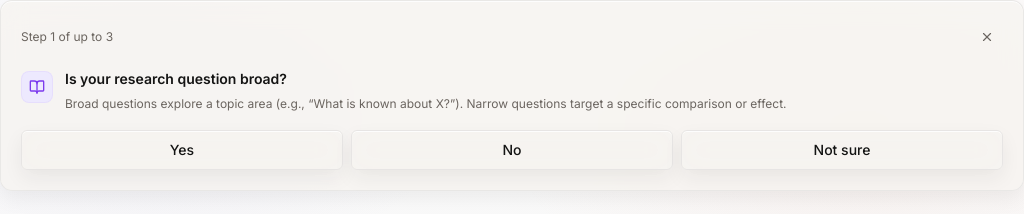
Test: ReviewTypeDecisionStage navigation › shows a step counter and goes back to the previous question
This screenshot has width=1024, height=214.
Expected: the text "Step 1 of up to 3" is shown, top-left (21, 29), bottom-right (113, 45)
Expected: the button "Back" is not shown
Click the button "No" at point(512, 150), box top-left (351, 130), bottom-right (673, 170)
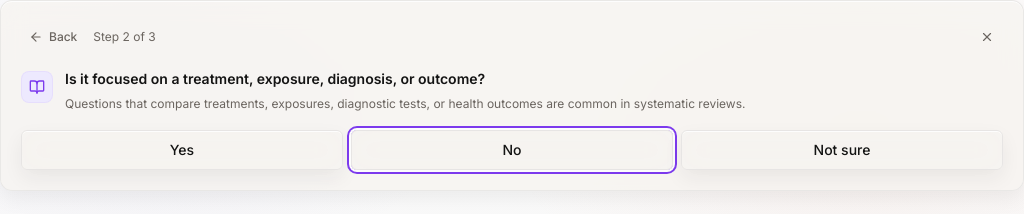
Result: the text "Step 2 of 3" is shown at top-left (93, 29), bottom-right (156, 45)
Result: the heading "Is it focused on a treatment, exposure, diagnosis, or outcome?" is shown at top-left (65, 70), bottom-right (485, 87)
Click the button "Yes" at point(182, 150), box top-left (21, 130), bottom-right (343, 170)
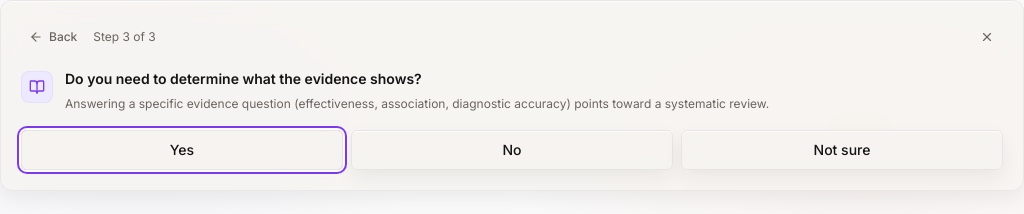
Result: the text "Step 3 of 3" is shown at top-left (93, 29), bottom-right (156, 45)
Click the button "Back" at point(53, 37), box top-left (21, 23), bottom-right (85, 51)
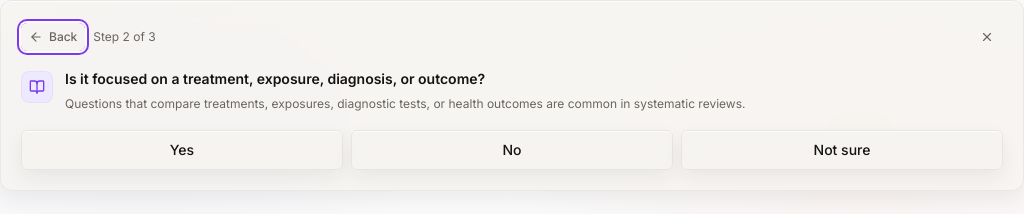
Result: the text "Step 2 of 3" is shown at top-left (93, 29), bottom-right (156, 45)
Click the button "Back" at point(53, 37), box top-left (21, 23), bottom-right (85, 51)
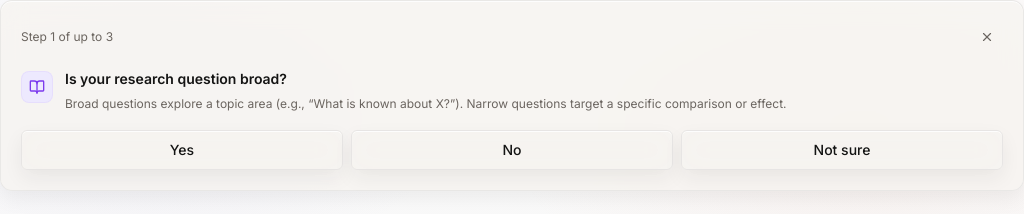
Result: the heading "Is your research question broad?" is shown at top-left (65, 70), bottom-right (287, 87)
Result: the button "Back" is gone
